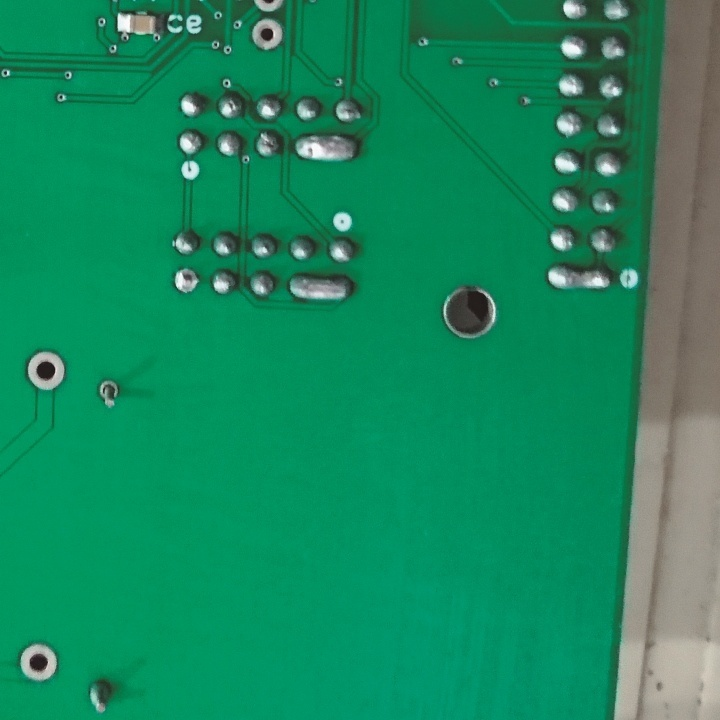F: (17, 641, 60, 686), (26, 346, 66, 393), (244, 19, 287, 55), (92, 376, 121, 412), (170, 264, 198, 296)
P: (284, 271, 356, 308), (544, 262, 613, 299), (294, 131, 362, 165)
